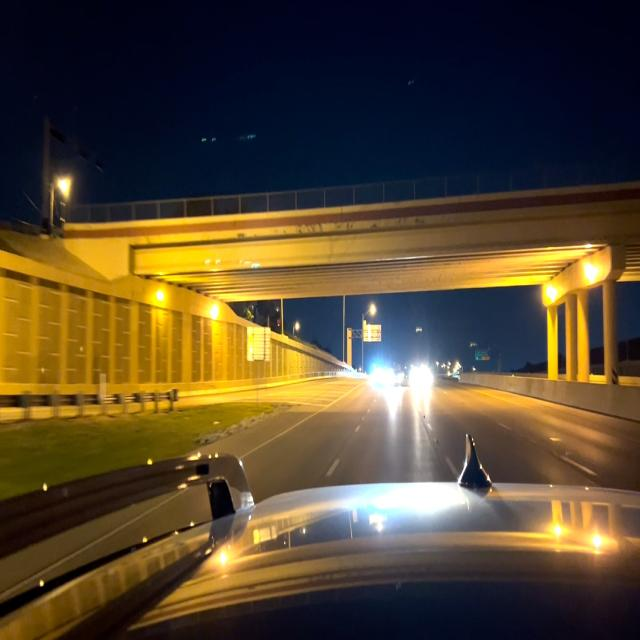back-of-sign: (248, 326, 270, 361)
